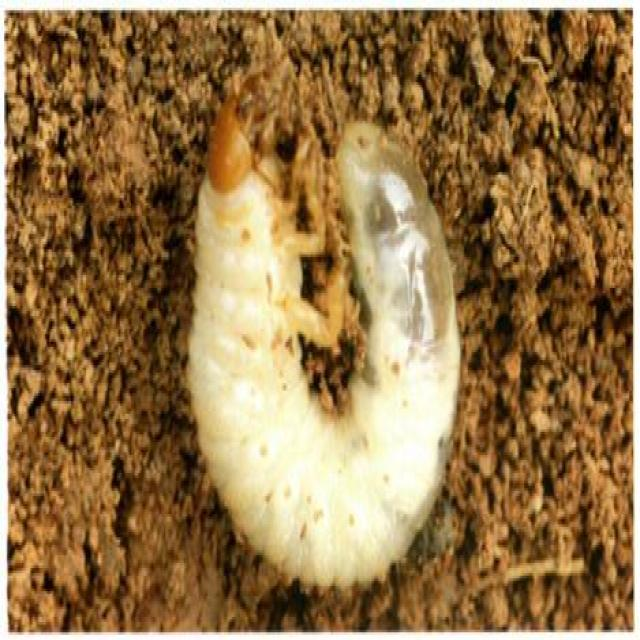Grub-Adult-: (172, 73, 468, 592)
